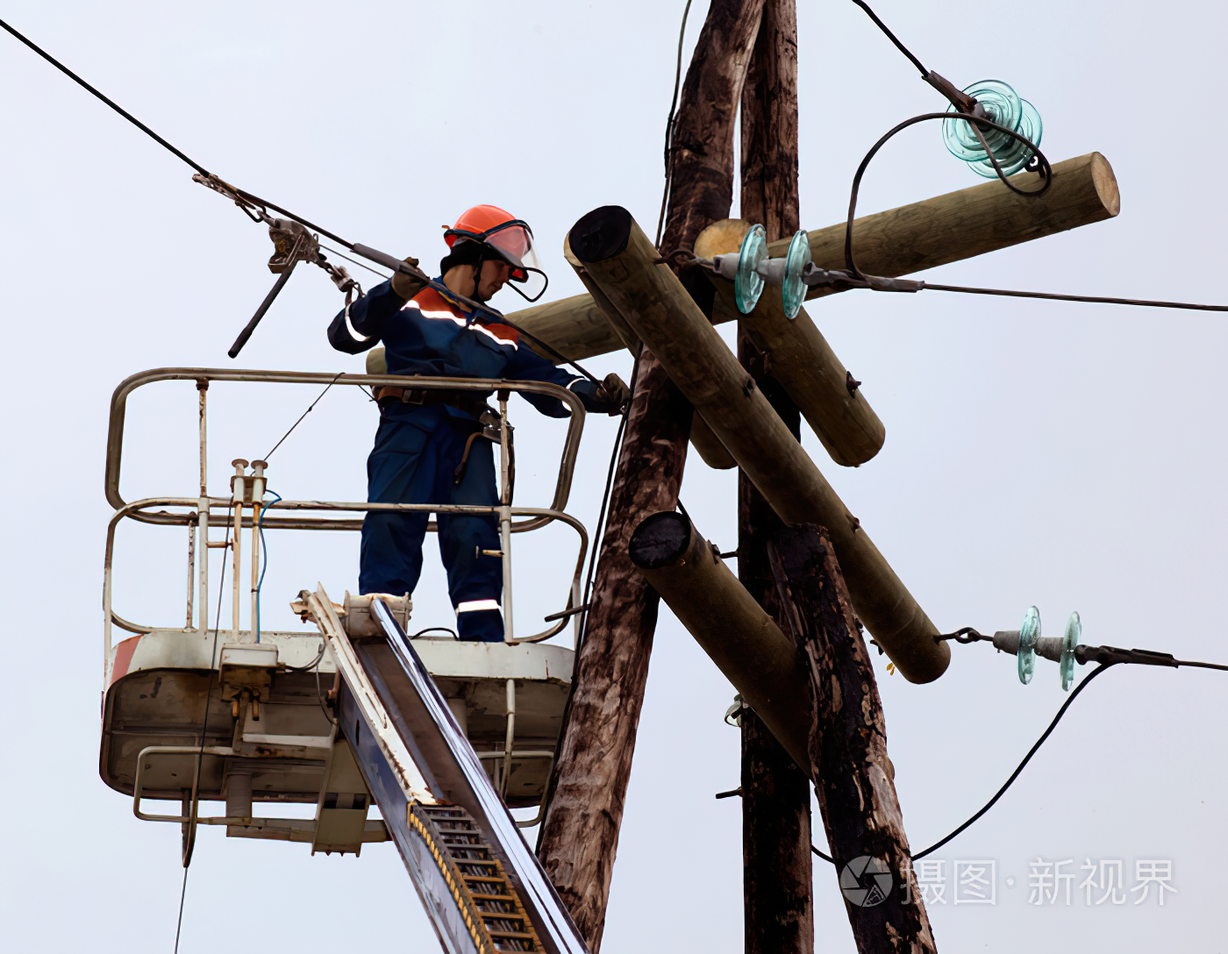insulator: (941, 79, 1040, 181), (725, 219, 821, 322), (1011, 602, 1084, 692)
